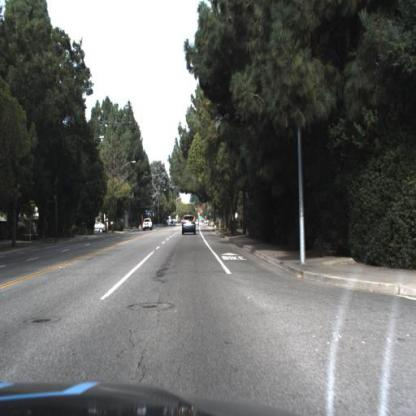car: (181, 214, 199, 237), (92, 218, 109, 236), (143, 215, 155, 233)
